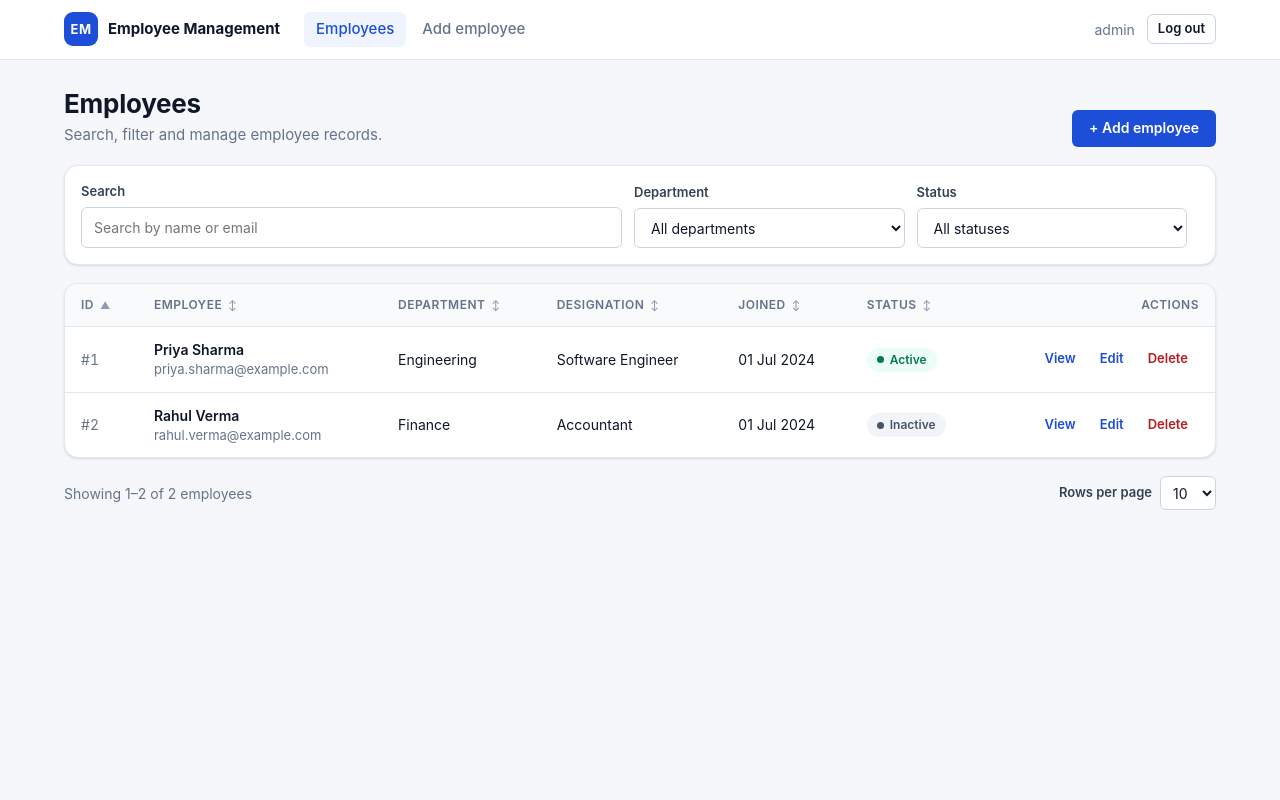
Test case: EmployeeListPage › reports a failed delete without removing the row
expect the table is shown: met, box [65,284,1215,457]
What coordinates should you click on to do the following:
click the button with aria-label "Delete Priya Sharma"
I would click on:
 (1168, 359)
Its box is [1137,344,1199,374].
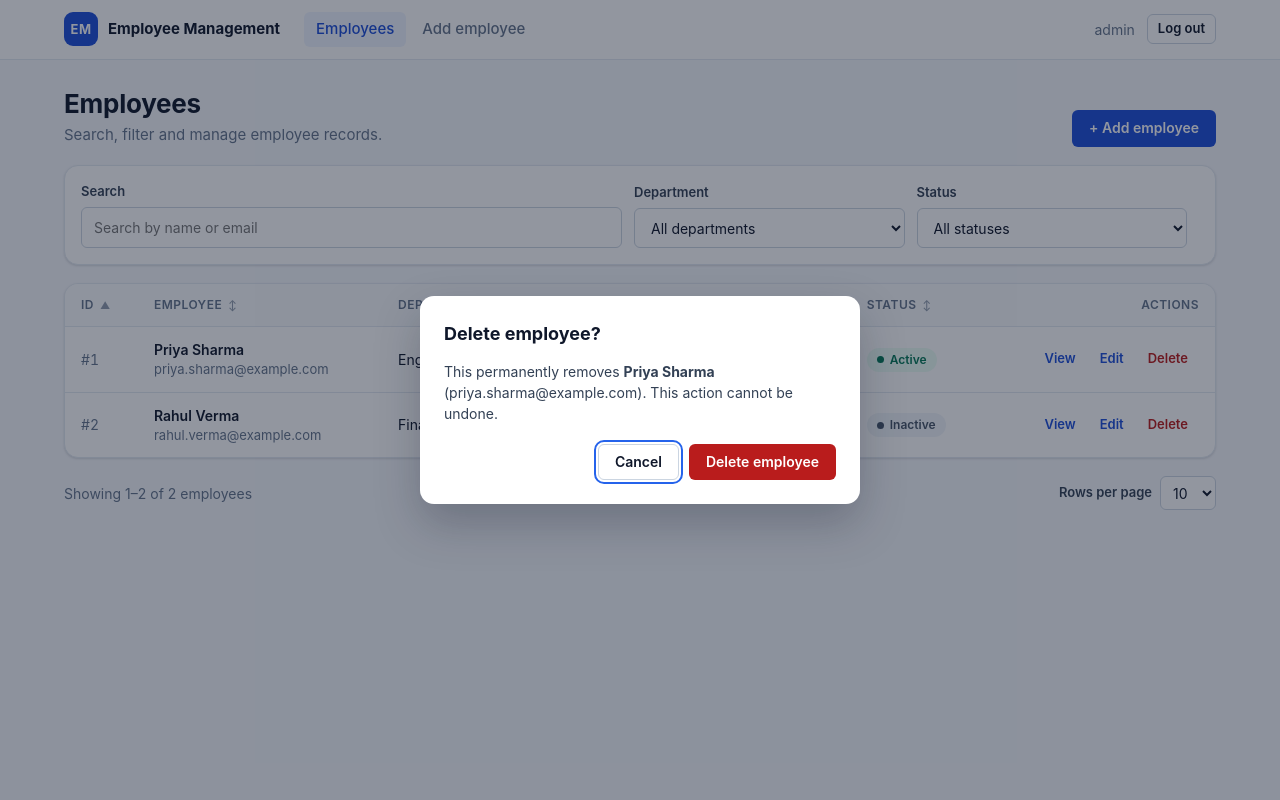
What coordinates should you click on to do the following:
click the button "Delete employee"
I would click on:
 (762, 462)
Its box is [689,444,836,480].
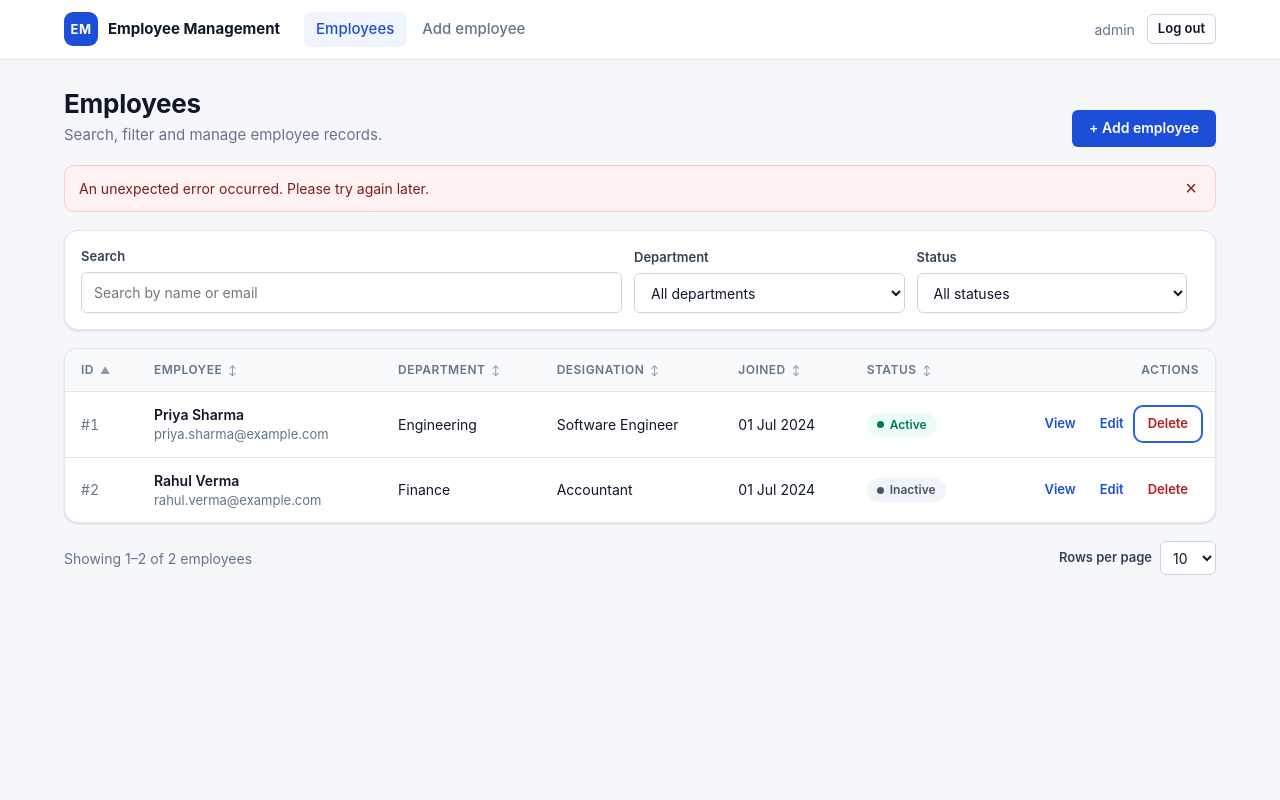
expect the link "Priya Sharma" is shown: met, box [154,406,244,423]
expect the message shows "An unexpected error occurred": met, box [79,180,429,196]
